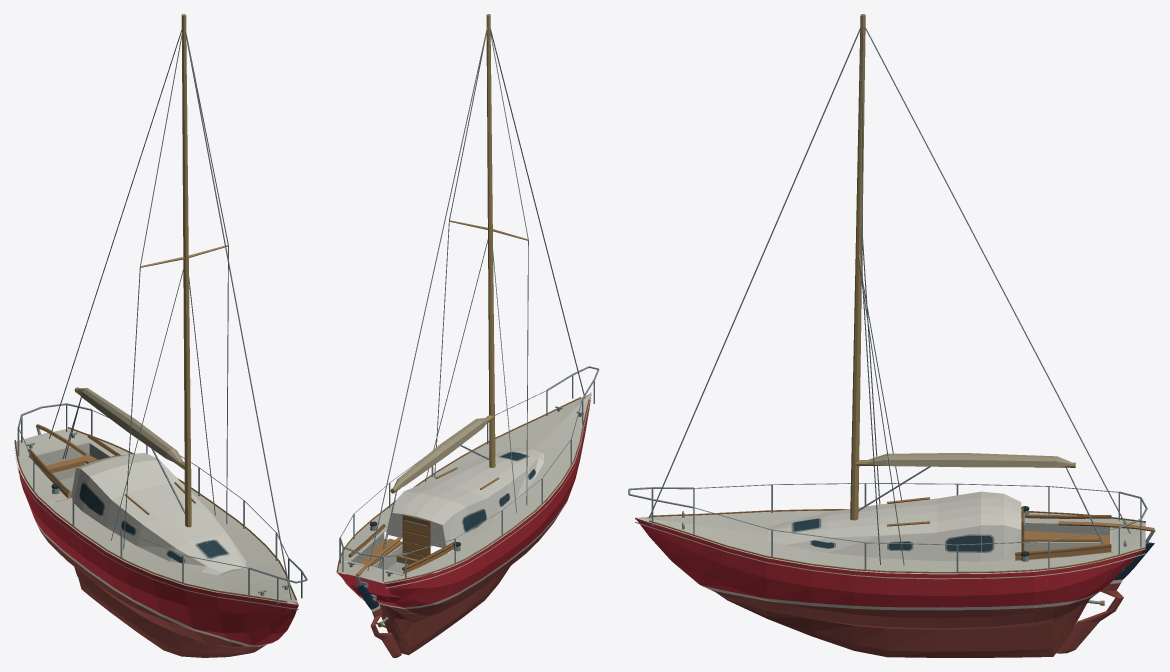
Rendered from KJP_Contessa26_rouge.glb.
3 renders of one model, left to right at view 1: azimuth 30°, elevation 25°; view 2: azimuth 150°, elevation 25°; view 3: azimuth 270°, elevation 25°, orthographic. The views are drawn at different scales.
Visible parts, largest first — view 1: KJP_Contessa26; view 2: KJP_Contessa26; view 3: KJP_Contessa26.
Boxes of the visible parts, left/top/right/bottom form: KJP_Contessa26: left=14, top=14, right=307, bottom=657; KJP_Contessa26: left=336, top=14, right=599, bottom=657; KJP_Contessa26: left=628, top=14, right=1155, bottom=657.
Size of the model in its own units: 2.29 by 10.72 by 8.02.
